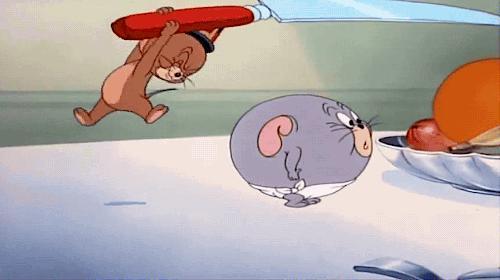jerry: (71, 5, 221, 127)
